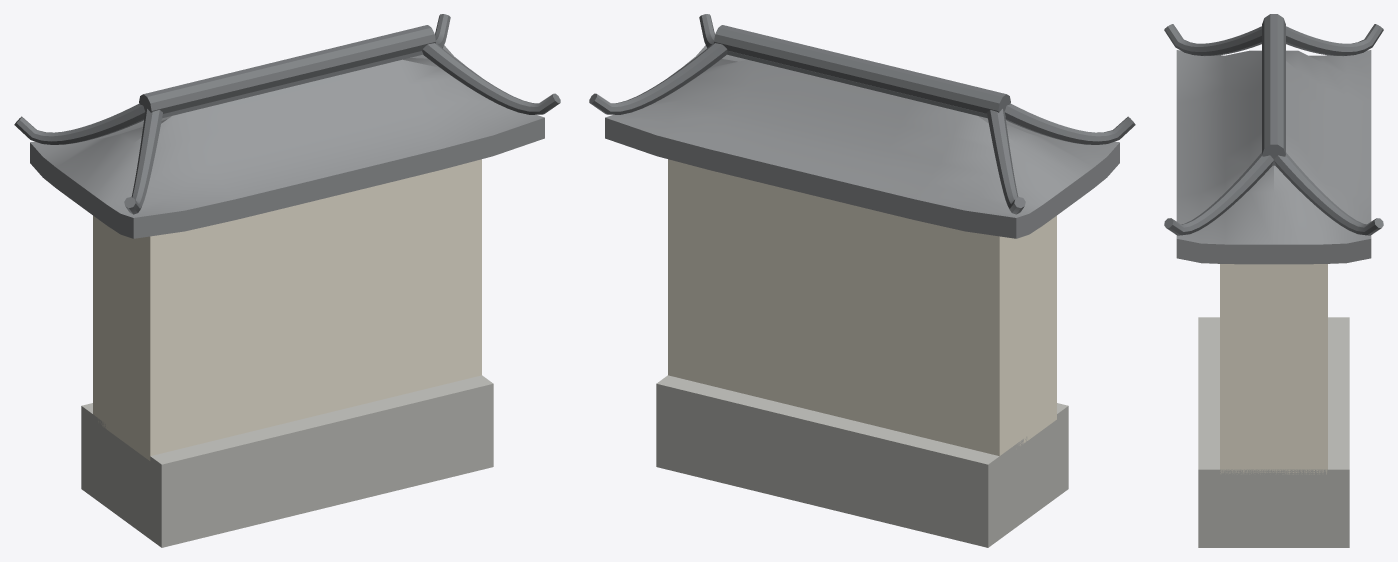
Rendered from SonMon_wall.fbx.
The picture shows the model from 3 angles, left to right: view 1: azimuth 30°, elevation 25°; view 2: azimuth 150°, elevation 25°; view 3: azimuth 270°, elevation 25°; orthographic projection. The views are drawn at different scales.
Visible parts, largest first — view 1: wall; view 2: wall; view 3: wall.
Boxes of the visible parts, x1,y1,x2,y2 form: wall: [14, 14, 560, 547]; wall: [589, 14, 1135, 547]; wall: [1164, 14, 1383, 547].
Bounding box in the file's own units: 1.31 × 1.2 × 0.6095.
